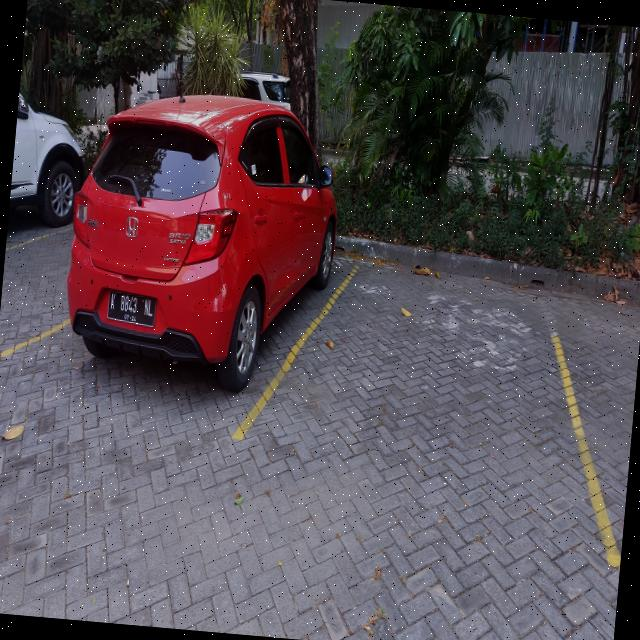empty: (238, 254, 617, 567), (3, 227, 73, 354)
occupied: (1, 93, 363, 436)
